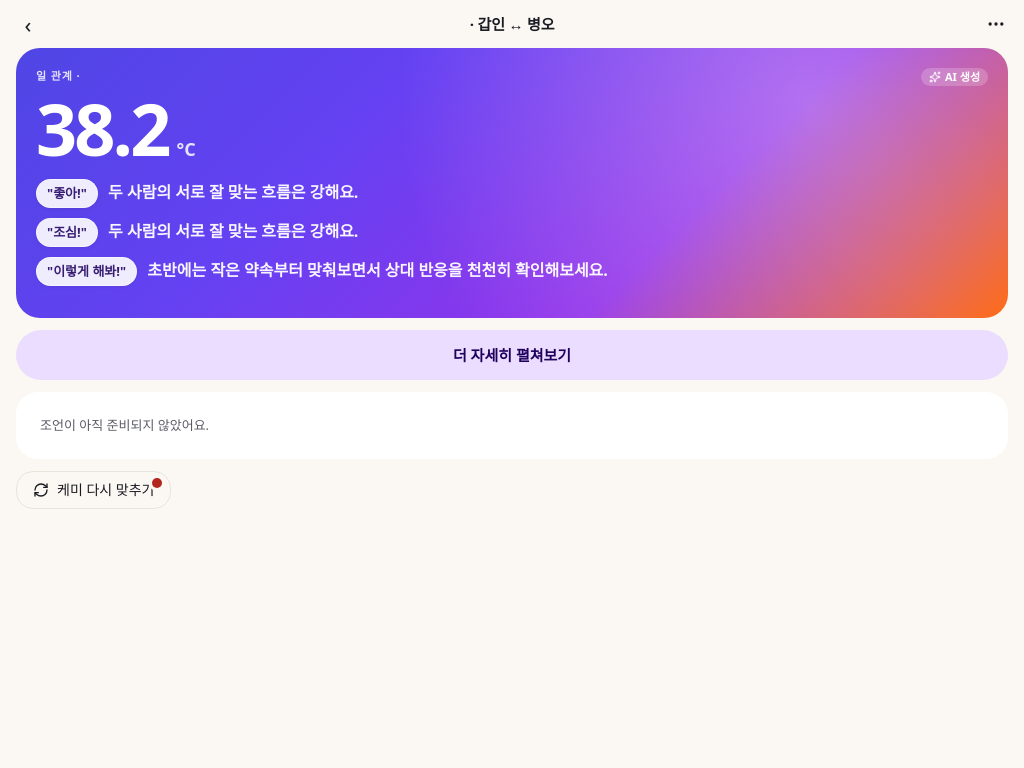
Scenario: HapcardView 변화 폭 인디케이터 (H-2) › 근거 탭 진입 시 변화 인디케이터 마운트 + 요인 라벨 렌더
The image size is (1024, 768).
Click the button "더 자세히 펼쳐보기" at (512, 355), box top-left (16, 330), bottom-right (1008, 380)
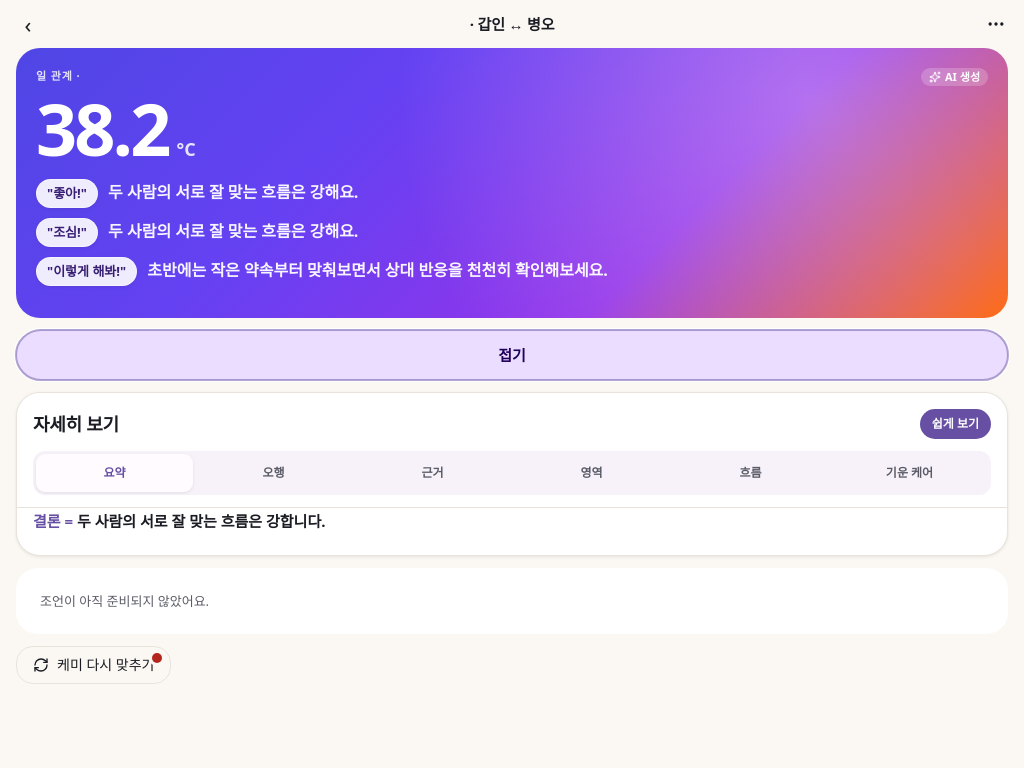
Click the button "근거" at (432, 473), box top-left (354, 454), bottom-right (511, 492)
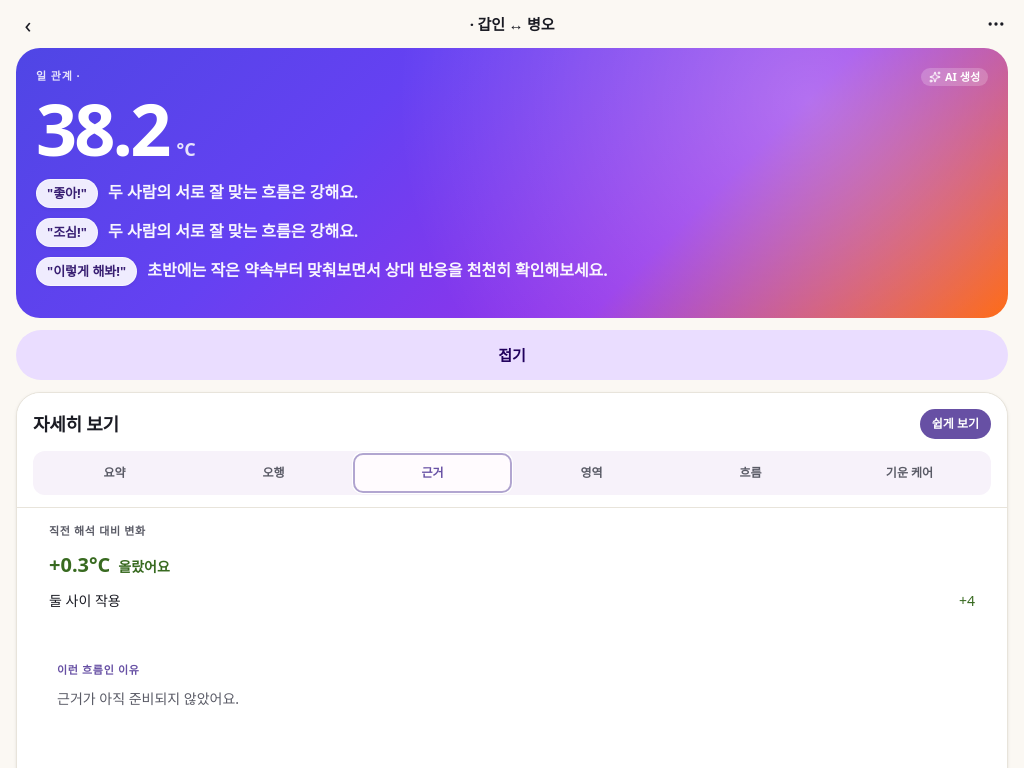
Check: the element with test id "hapcard-change" is shown, box top-left (33, 508), bottom-right (991, 627)
Check: the list item with test id "hapcard-change-factor" shows "둘 사이 작용", box top-left (49, 591), bottom-right (121, 610)
